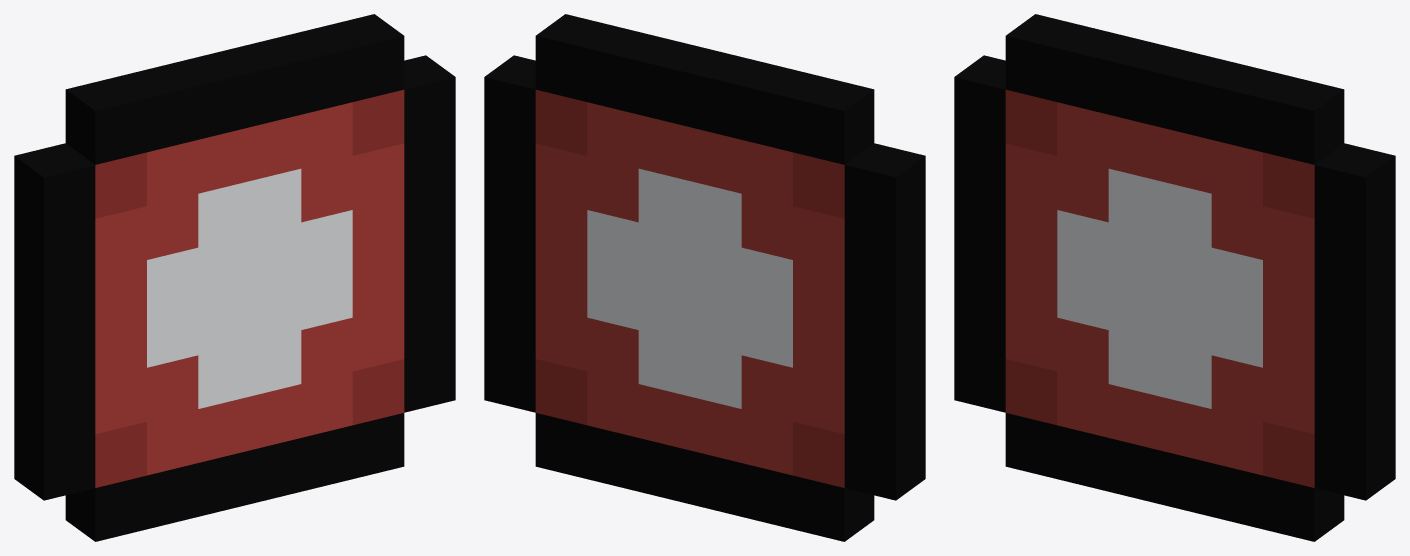
The model's file is Medkit.glb.
3 views of the same model, side by side, from view 1: azimuth 30°, elevation 25°; view 2: azimuth 150°, elevation 25°; view 3: azimuth 330°, elevation 25° (orthographic).
Visible parts, largest first — view 1: generated(Clone); view 2: generated(Clone); view 3: generated(Clone).
Boxes of the visible parts, x1,y1,x2,y2 form: generated(Clone): (14, 14, 455, 541); generated(Clone): (484, 14, 925, 541); generated(Clone): (954, 14, 1395, 541).
Bounding box in the file's own units: 8 × 8 × 1.
1 material, 1 textured.
